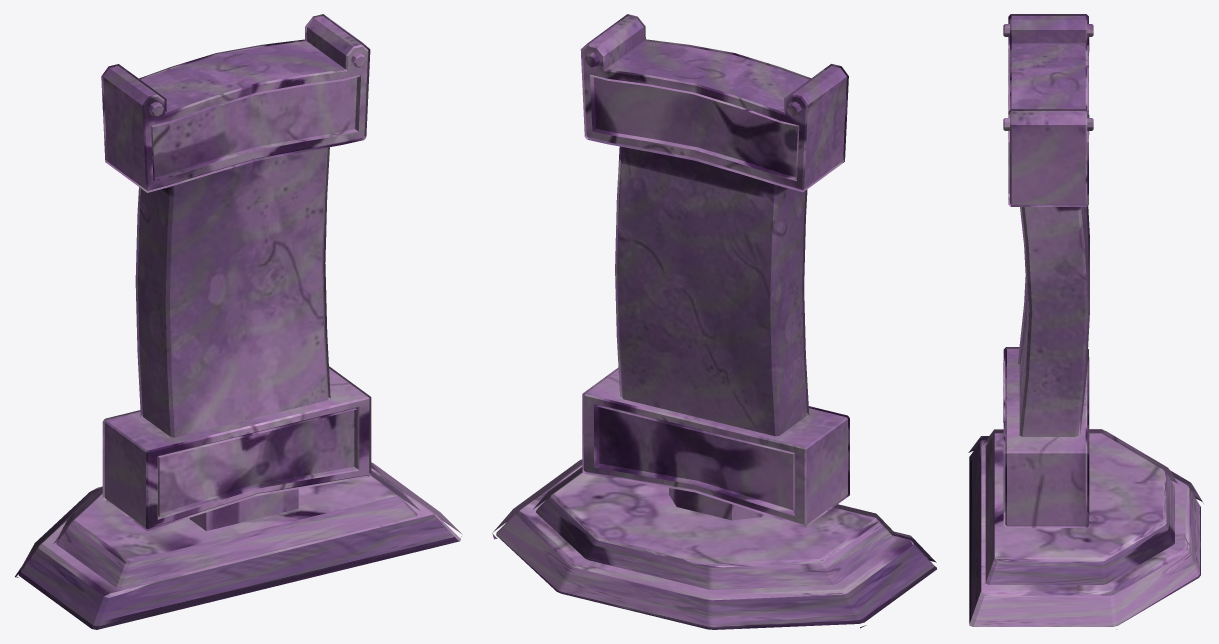
The model's file is entity128776n.gltf.
3 renders of one model, left to right at view 1: azimuth 30°, elevation 25°; view 2: azimuth 150°, elevation 25°; view 3: azimuth 270°, elevation 25°, orthographic. The views are drawn at different scales.
Visible parts, largest first — view 1: node_Signal_02; view 2: node_Signal_02; view 3: node_Signal_02.
Boxes of the visible parts, x1,y1,x2,y2 form: node_Signal_02: (15,14,462,629); node_Signal_02: (492,14,936,629); node_Signal_02: (968,14,1203,629).
Size of what is drawn, in the model's own units: 2.98 by 3.81 by 1.7.
